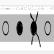correct: (16, 18, 24, 41)
not correct: (29, 10, 42, 50)
